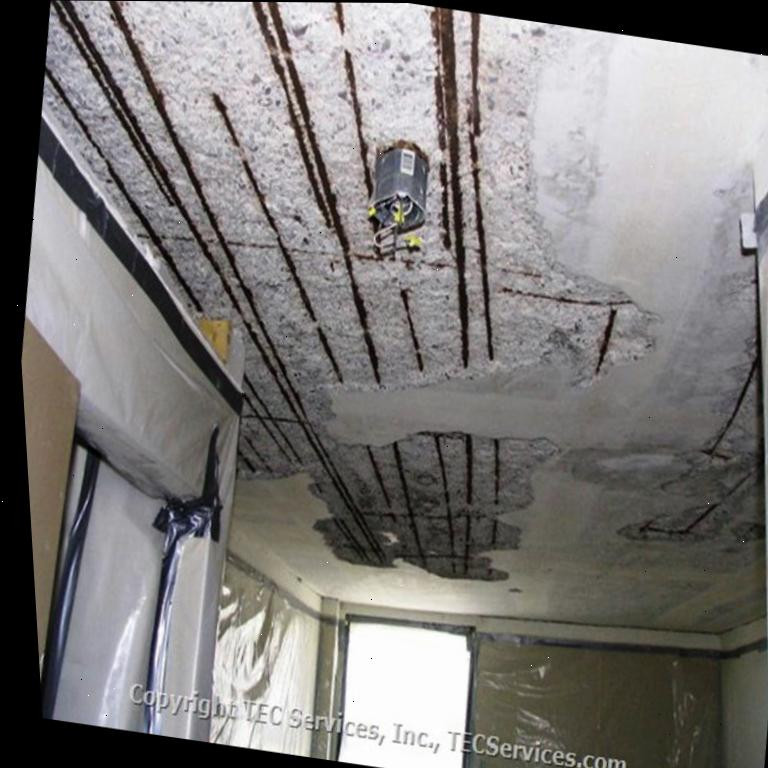spalling: (42, 0, 651, 577), (573, 329, 764, 551)
